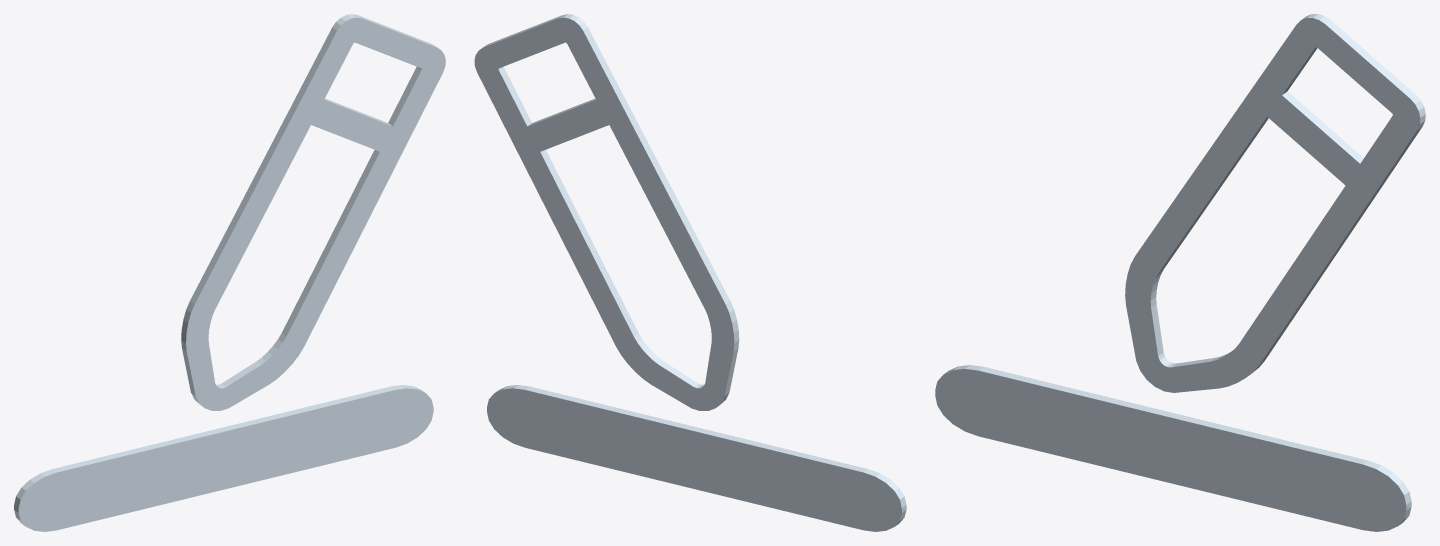
File: Edit_3D_Icon_02.fbx
3 renders of one model, left to right at view 1: azimuth 30°, elevation 25°; view 2: azimuth 150°, elevation 25°; view 3: azimuth 330°, elevation 25°, orthographic. The views are drawn at different scales.
Parts seen in each view (by area): view 1: Edit_3D_Icon_02; view 2: Edit_3D_Icon_02; view 3: Edit_3D_Icon_02.
Part boxes in pixels (x1,y1,x2,y2): Edit_3D_Icon_02: (14,14,445,531); Edit_3D_Icon_02: (474,14,906,531); Edit_3D_Icon_02: (935,14,1425,531).
Size of the model in its own units: 101 by 99.94 by 2.
